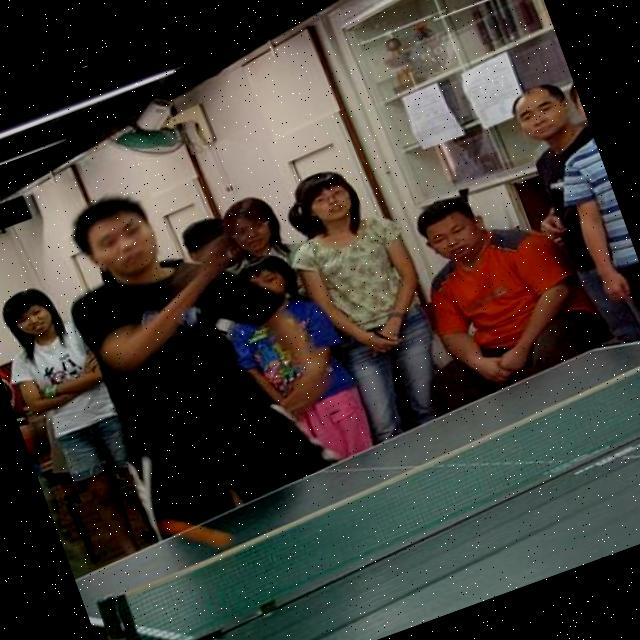ping-pong-ball: (155, 499, 235, 565)
